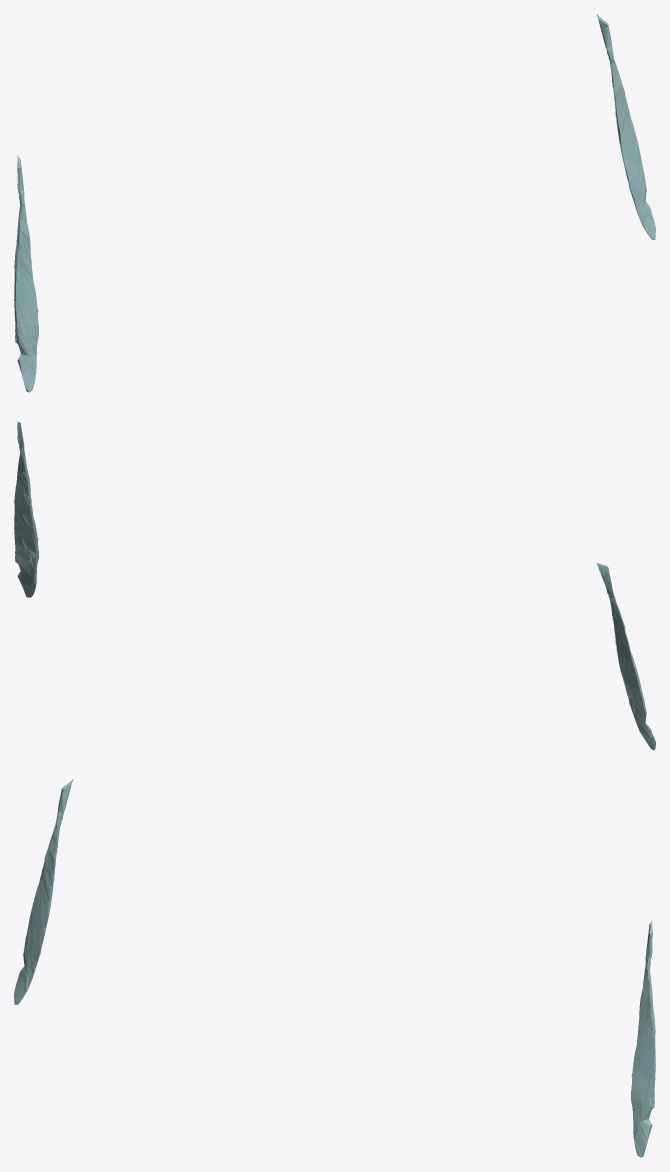
File: curated-skeletal-sensory-00.glb
The picture shows the model from 3 angles, top to bottom: view 1: azimuth 30°, elevation 25°; view 2: azimuth 150°, elevation 25°; view 3: azimuth 330°, elevation 25°; orthographic projection.
Visible parts, largest first — view 1: FJ1476, FJ1476M; view 2: FJ1476M, FJ1476; view 3: FJ1476M, FJ1476.
Boxes of the visible parts, x1=… form: FJ1476: x1=14, y1=155, x2=38, y2=392; FJ1476M: x1=596, y1=14, x2=655, y2=239; FJ1476M: x1=14, y1=421, x2=38, y2=597; FJ1476: x1=596, y1=563, x2=655, y2=750; FJ1476M: x1=631, y1=920, x2=655, y2=1157; FJ1476: x1=14, y1=779, x2=73, y2=1004.
Size of the model in its own units: 0.5014 by 0.1563 by 0.0481.
